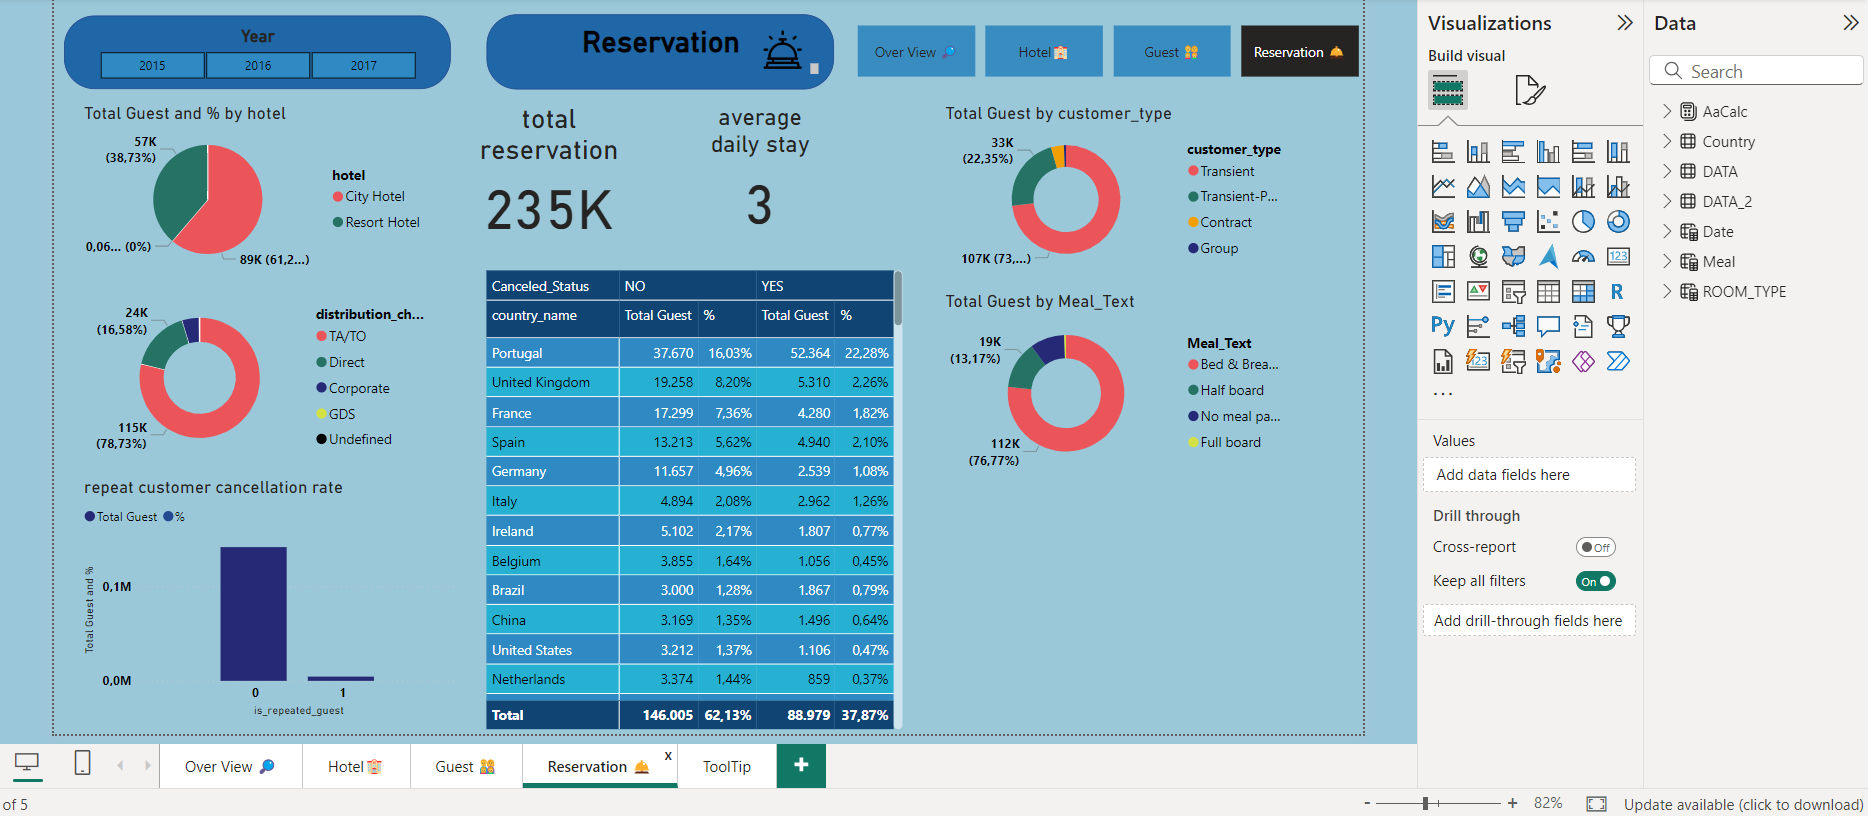

This screenshot's page, from the dashboard's own definition file:
{"tool":"powerbi","page":{"name":"Reservation 🛎️","canvas":[1280,720],"ordinal":3},"visuals":[{"type":"pivotTable","fields":{"Rows":["Country.country_name"],"Values":["AaCalc.Total Guest","Divide(AaCalc.Total Guest, ScopedEval(AaCalc.Total Guest, []))"],"Columns":["DATA.Canceled_Status"]},"box":[418.2,261.7,417,458.6],"z":1000},{"type":"donutChart","fields":{"Category":["DATA.Meal_Text"],"Y":["AaCalc.Total Guest"]},"box":[867,286.1,348.5,182.2],"z":2000},{"type":"pieChart","fields":{"Category":["DATA.hotel"],"Y":["AaCalc.Total Guest","Divide(AaCalc.Total Guest, ScopedEval(AaCalc.Total Guest, []))"]},"box":[24.5,102.7,348.5,170],"z":3000},{"type":"donutChart","fields":{"Category":["DATA.distribution_channel"],"Y":["AaCalc.Total Guest","Divide(AaCalc.Total Guest, ScopedEval(AaCalc.Total Guest, []))"]},"box":[24.5,286.1,348.5,171.2],"z":4000},{"type":"donutChart","fields":{"Category":["DATA.customer_type"],"Y":["AaCalc.Total Guest"]},"box":[867,102.7,348.5,170],"z":5000},{"type":"lineStackedColumnComboChart","title":"repeat customer cancellation rate","fields":{"Category":["DATA.reservation_status","DATA.is_repeated_guest"],"Y":["AaCalc.Total Guest","Divide(AaCalc.Total Guest, ScopedEval(AaCalc.Total Guest, []))"]},"box":[24.5,468.3,374.2,239.7],"z":7000},{"type":"slicer","title":"Year","fields":{"Values":["Date.arrival_date.Variation.Date Hierarchy.Year"]},"box":[10,17,378,72],"z":8000},{"type":"card","title":"average daily stay ","fields":{"Values":["AaCalc.Total_Stay"]},"box":[618.8,102.7,144.3,133.3],"z":9000},{"type":"card","title":"total reservation","fields":{"Values":["AaCalc.Total Guest"]},"box":[398.6,102.7,171.2,133.3],"z":10000},{"type":"textbox","title":"Reservation","box":[423.1,15.9,339.9,73.4],"z":11000},{"type":"image","box":[688.5,26.9,48.9,47.7],"z":12000},{"type":"pageNavigator","box":[786.2,27.5,493.8,50],"z":13000}]}

Visuals, with their boxes on the page's 1280x720 design canvas (x1, y1, x2, y2). These are canvas units, not pixel positions in the 1868x816 screenshot, which may show the page scaled, cropped or inside an application window:
pivotTable - Country.country_name x AaCalc.Total Guest: left=418, top=262, right=835, bottom=720
donutChart - DATA.Meal_Text x AaCalc.Total Guest: left=867, top=286, right=1216, bottom=468
pieChart - DATA.hotel x AaCalc.Total Guest: left=24, top=103, right=373, bottom=273
donutChart - DATA.distribution_channel x AaCalc.Total Guest: left=24, top=286, right=373, bottom=457
donutChart - DATA.customer_type x AaCalc.Total Guest: left=867, top=103, right=1216, bottom=273
"repeat customer cancellation rate" lineStackedColumnComboChart: left=24, top=468, right=399, bottom=708
"Year" slicer: left=10, top=17, right=388, bottom=89
"average daily stay " card: left=619, top=103, right=763, bottom=236
"total reservation" card: left=399, top=103, right=570, bottom=236
"Reservation" textbox: left=423, top=16, right=763, bottom=89
image: left=688, top=27, right=737, bottom=75
pageNavigator: left=786, top=28, right=1280, bottom=78
